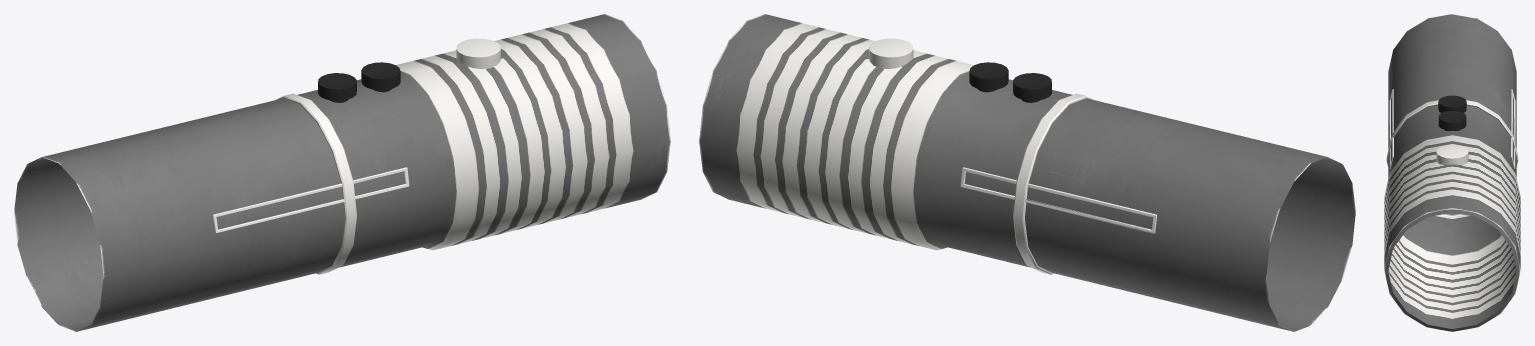
The model's file is grip_14_c_a.glb.
3 views of the same model, side by side, from view 1: azimuth 30°, elevation 25°; view 2: azimuth 150°, elevation 25°; view 3: azimuth 270°, elevation 25° (orthographic). The views are drawn at different scales.
Visible parts, largest first — view 1: grip_14_c_a_lod0; view 2: grip_14_c_a_lod0; view 3: grip_14_c_a_lod0.
Part boxes in pixels (x1,y1,x2,y2): grip_14_c_a_lod0: (14, 14, 670, 331); grip_14_c_a_lod0: (699, 14, 1355, 331); grip_14_c_a_lod0: (1384, 14, 1520, 331).
Size of what is drawn, in the model's own units: 0.1041 by 0.0321 by 0.0302.
1 material, 1 textured.
